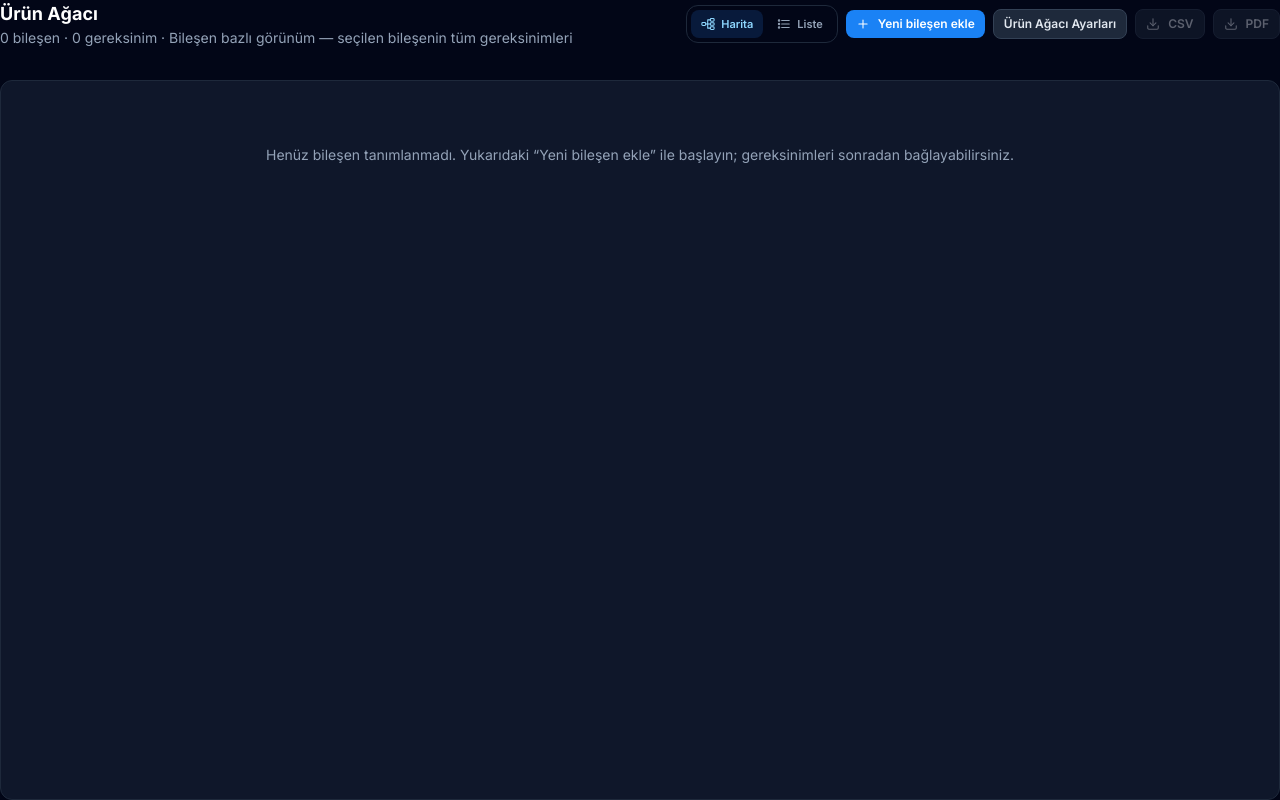
Test case: Boş proje: bileşen oluşturma › adsız bileşen kaydedilmez
This screenshot has width=1280, height=800.
Click the button with test id "comp-view-list".
click(800, 24)  # box [767,10,833,38]
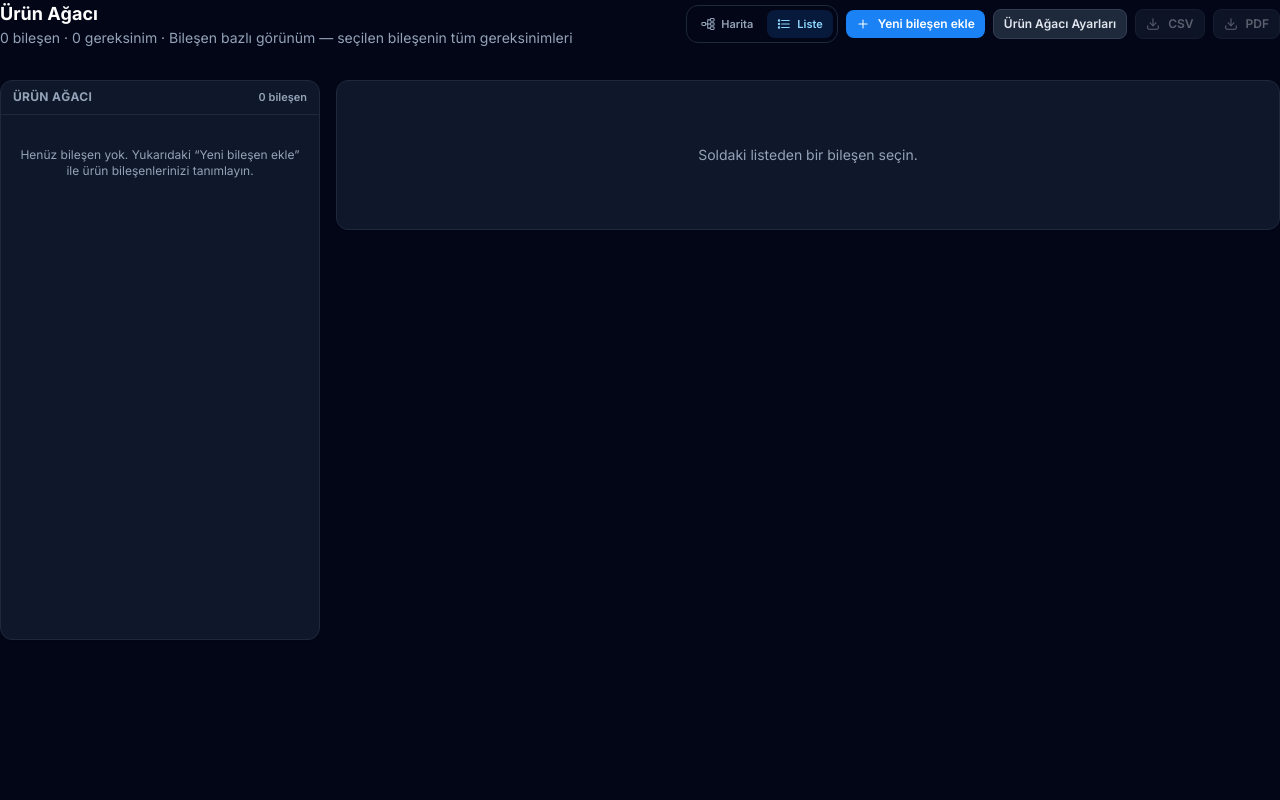
Click the button with test id "comp-add-root".
click(915, 24)  # box [846,10,985,38]
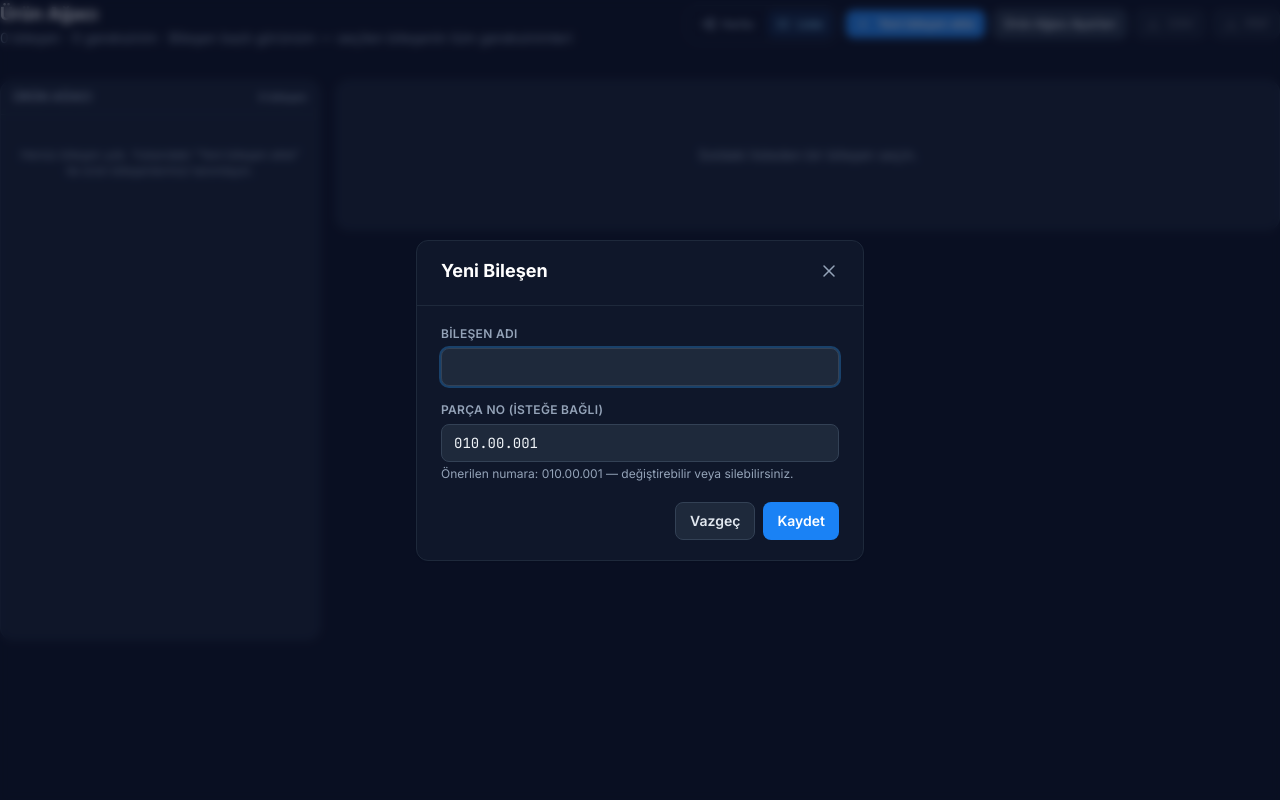
Click the button with test id "comp-form-save".
click(801, 520)  # box [763,502,839,540]
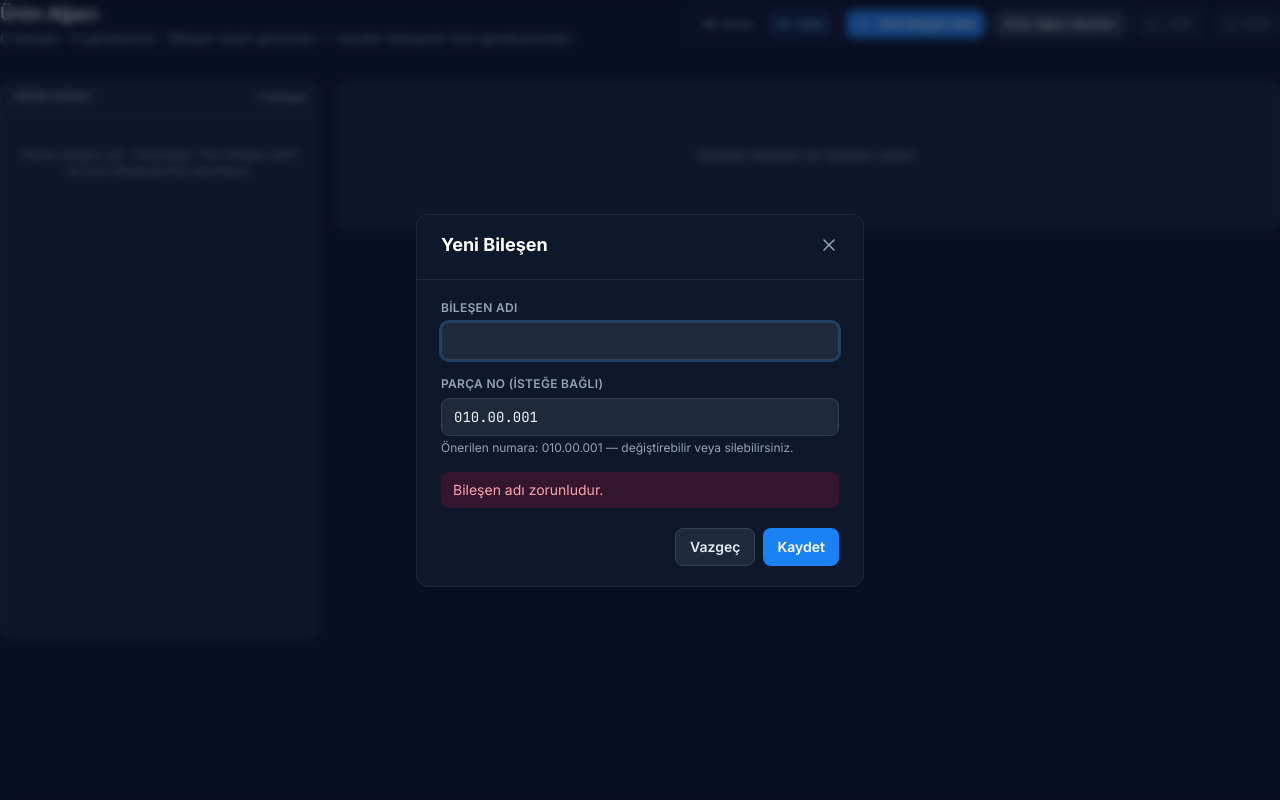
Now the text "Bileşen adı zorunludur." is shown, box [441,472,839,508]
